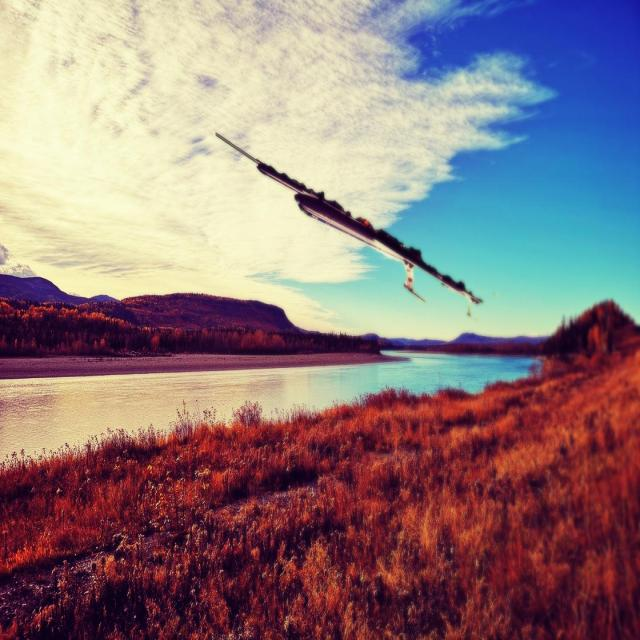airplane: (214, 130, 483, 316)
